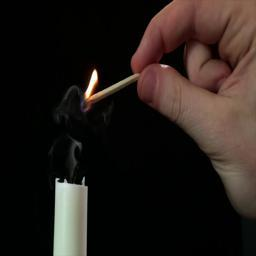fire: (85, 70, 98, 97)
